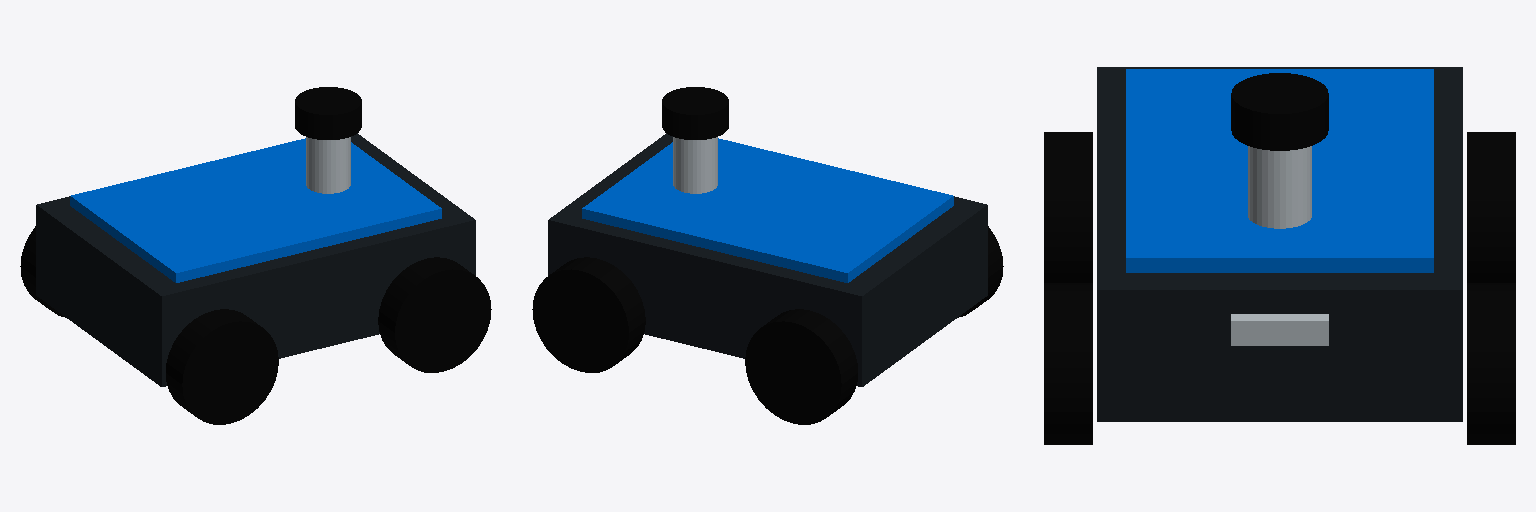
The robot description file, URDF, robot "argus_robot":
<?xml version="1.0"?>
<robot name="argus_robot">

  <!-- ================================================================= -->
  <!-- MATERIALS & PALETTE                                               -->
  <!-- ================================================================= -->
  <material name="metallic_dark_grey"><color rgba="0.12 0.14 0.16 1.0"/></material>
  <material name="metallic_silver"><color rgba="0.75 0.78 0.80 1.0"/></material>
  <material name="accent_blue"><color rgba="0.0 0.45 0.85 1.0"/></material>
  <material name="rubber_black"><color rgba="0.05 0.05 0.05 1.0"/></material>
  <material name="lens_glass"><color rgba="0.1 0.8 0.9 0.8"/></material>

  <!-- ================================================================= -->
  <!-- MAIN CHASSIS                                                      -->
  <!-- ================================================================= -->
  <link name="base_link">
    <visual>
      <origin xyz="0 0 0.08" rpy="0 0 0"/>
      <geometry>
        <box size="0.65 0.45 0.18"/>
      </geometry>
      <material name="metallic_dark_grey"/>
    </visual>
    <collision>
      <origin xyz="0 0 0.08" rpy="0 0 0"/>
      <geometry>
        <box size="0.65 0.45 0.18"/>
      </geometry>
    </collision>
    <inertial>
      <mass value="20.0"/>
      <inertia ixx="0.4" ixy="0.0" ixz="0.0" iyy="0.7" iyz="0.0" izz="0.9"/>
    </inertial>
  </link>
  <gazebo reference="base_link">
    <material>Gazebo/DarkGrey</material>
  </gazebo>

  <!-- Top Accent Cover plate -->
  <link name="top_plate">
    <visual>
      <geometry><box size="0.55 0.38 0.02"/></geometry>
      <material name="accent_blue"/>
    </visual>
  </link>
  <joint name="top_plate_joint" type="fixed">
    <parent link="base_link"/>
    <child link="top_plate"/>
    <origin xyz="0 0 0.18" rpy="0 0 0"/>
  </joint>

  <!-- ================================================================= -->
  <!-- 4 WHEELS (FRONT & REAR)                                           -->
  <!-- ================================================================= -->
  <!-- Front Left Wheel -->
  <link name="front_left_wheel">
    <visual>
      <geometry><cylinder radius="0.10" length="0.06"/></geometry>
      <material name="rubber_black"/>
    </visual>
    <collision><geometry><cylinder radius="0.10" length="0.06"/></geometry></collision>
    <inertial><mass value="2.0"/><inertia ixx="0.01" ixy="0" ixz="0" iyy="0.01" iyz="0" izz="0.01"/></inertial>
  </link>
  <joint name="front_left_wheel_joint" type="continuous">
    <parent link="base_link"/><child link="front_left_wheel"/>
    <origin xyz="0.22 0.26 0.02" rpy="-1.5708 0 0"/>
    <axis xyz="0 0 1"/>
  </joint>

  <!-- Front Right Wheel -->
  <link name="front_right_wheel">
    <visual>
      <geometry><cylinder radius="0.10" length="0.06"/></geometry>
      <material name="rubber_black"/>
    </visual>
    <collision><geometry><cylinder radius="0.10" length="0.06"/></geometry></collision>
    <inertial><mass value="2.0"/><inertia ixx="0.01" ixy="0" ixz="0" iyy="0.01" iyz="0" izz="0.01"/></inertial>
  </link>
  <joint name="front_right_wheel_joint" type="continuous">
    <parent link="base_link"/><child link="front_right_wheel"/>
    <origin xyz="0.22 -0.26 0.02" rpy="-1.5708 0 0"/>
    <axis xyz="0 0 1"/>
  </joint>

  <!-- Rear Left Wheel -->
  <link name="rear_left_wheel">
    <visual>
      <geometry><cylinder radius="0.10" length="0.06"/></geometry>
      <material name="rubber_black"/>
    </visual>
    <collision><geometry><cylinder radius="0.10" length="0.06"/></geometry></collision>
    <inertial><mass value="2.0"/><inertia ixx="0.01" ixy="0" ixz="0" iyy="0.01" iyz="0" izz="0.01"/></inertial>
  </link>
  <joint name="rear_left_wheel_joint" type="continuous">
    <parent link="base_link"/><child link="rear_left_wheel"/>
    <origin xyz="-0.22 0.26 0.02" rpy="-1.5708 0 0"/>
    <axis xyz="0 0 1"/>
  </joint>

  <!-- Rear Right Wheel -->
  <link name="rear_right_wheel">
    <visual>
      <geometry><cylinder radius="0.10" length="0.06"/></geometry>
      <material name="rubber_black"/>
    </visual>
    <collision><geometry><cylinder radius="0.10" length="0.06"/></geometry></collision>
    <inertial><mass value="2.0"/><inertia ixx="0.01" ixy="0" ixz="0" iyy="0.01" iyz="0" izz="0.01"/></inertial>
  </link>
  <joint name="rear_right_wheel_joint" type="continuous">
    <parent link="base_link"/><child link="rear_right_wheel"/>
    <origin xyz="-0.22 -0.26 0.02" rpy="-1.5708 0 0"/>
    <axis xyz="0 0 1"/>
  </joint>

  <!-- ================================================================= -->
  <!-- SENSORS: HEAD LIDAR & FRONT CAMERA                                -->
  <!-- ================================================================= -->
  <!-- Head Mount / Tower -->
  <link name="sensor_tower">
    <visual>
      <geometry><cylinder radius="0.04" length="0.12"/></geometry>
      <material name="metallic_silver"/>
    </visual>
  </link>
  <joint name="sensor_tower_joint" type="fixed">
    <parent link="base_link"/><child link="sensor_tower"/>
    <origin xyz="0.15 0 0.25" rpy="0 0 0"/>
  </joint>

  <!-- 360 Head LiDAR -->
  <link name="laser_frame">
    <visual>
      <geometry><cylinder radius="0.06" length="0.05"/></geometry>
      <material name="rubber_black"/>
    </visual>
  </link>
  <joint name="laser_joint" type="fixed">
    <parent link="sensor_tower"/><child link="laser_frame"/>
    <origin xyz="0 0 0.08" rpy="0 0 0"/>
  </joint>

  <!-- Front Camera -->
  <link name="camera_link">
    <visual>
      <geometry><box size="0.03 0.12 0.035"/></geometry>
      <material name="metallic_silver"/>
    </visual>
  </link>
  <joint name="camera_joint" type="fixed">
    <parent link="base_link"/><child link="camera_link"/>
    <origin xyz="0.33 0 0.12" rpy="0 0 0"/>
  </joint>

  <!-- ================================================================= -->
  <!-- GAZEBO DIFFERENTIAL DRIVE PLUGIN (THE ENGINE)                     -->
  <!-- ================================================================= -->
  <gazebo>
    <plugin name="diff_drive_controller" filename="libgazebo_ros_diff_drive.so">
      <update_rate>50.0</update_rate>
      
      <!-- Wheel Joints -->
      <left_joint>front_left_wheel_joint</left_joint>
      <right_joint>front_right_wheel_joint</right_joint>
      
      <!-- Kinematics -->
      <wheel_separation>0.52</wheel_separation>
      <wheel_diameter>0.20</wheel_diameter>
      
      <!-- Limits -->
      <max_wheel_torque>20.0</max_wheel_torque>
      <max_wheel_acceleration>1.0</max_wheel_acceleration>
      
      <!-- Output -->
      <command_topic>cmd_vel</command_topic>
      <odometry_topic>odom</odometry_topic>
      <odometry_frame>odom</odometry_frame>
      <robot_base_frame>base_link</robot_base_frame>
      
      <publish_odom>true</publish_odom>
      <publish_odom_tf>true</publish_odom_tf>
      <publish_wheel_tf>true</publish_wheel_tf>
    </plugin>
  </gazebo>

  <!-- ================================================================= -->
  <!-- GAZEBO LIDAR PLUGIN (THE EYES)                                    -->
  <!-- ================================================================= -->
  <gazebo reference="laser_frame">
    <sensor name="lidar" type="ray">
      <always_on>true</always_on>
      <!-- This turns on the visible blue rays in Gazebo! -->
      <visualize>true</visualize> 
      <update_rate>10</update_rate>
      <ray>
        <scan>
          <horizontal>
            <samples>360</samples>
            <resolution>1.0</resolution>
            <!-- Scans a full 360 degrees (0 to 2*Pi) -->
            <min_angle>0.0</min_angle>
            <max_angle>6.28319</max_angle>
          </horizontal>
        </scan>
        <range>
          <min>0.12</min>
          <!-- Set to 40.0 Meters as you requested -->
          <max>40.0</max>
          <resolution>0.015</resolution>
        </range>
        <noise>
          <type>gaussian</type>
          <mean>0.0</mean>
          <stddev>0.01</stddev>
        </noise>
      </ray>
      <plugin name="scan" filename="libgazebo_ros_ray_sensor.so">
        <ros>
          <remapping>~/out:=scan</remapping>
        </ros>
        <output_type>sensor_msgs/LaserScan</output_type>
        <frame_name>laser_frame</frame_name>
      </plugin>
    </sensor>
  </gazebo>
  <!-- =============== ================================================== -->
  <!-- GAZEBO IMU SENSOR (THE INNER EAR)                                 -->
  <!-- ================================================================= -->
  <gazebo reference="base_link">
    <sensor name="imu_sensor" type="imu">
      <always_on>true</always_on>
      <update_rate>100</update_rate>
      <plugin name="imu_plugin" filename="libgazebo_ros_imu_sensor.so">
        <ros>
          <remapping>~/out:=imu</remapping>
        </ros>
        <initial_orientation_as_reference>false</initial_orientation_as_reference>
      </plugin>
    </sensor>
  </gazebo>

<gazebo reference="camera_link">
    <sensor type="camera" name="argus_camera">
      <always_on>true</always_on>
      <update_rate>15.0</update_rate>
      <visualize>true</visualize>
      <camera name="front_camera">
        <horizontal_fov>1.3962634</horizontal_fov>
        <image>
          <width>640</width>
          <height>480</height>
          <format>R8G8B8</format>
        </image>
        <clip>
          <near>0.02</near>
          <far>300</far>
        </clip>
      </camera>
      <plugin name="camera_controller" filename="libgazebo_ros_camera.so">
        <ros>
          <remapping>~/image_raw:=/camera/image_raw</remapping>
          <remapping>~/camera_info:=/camera/camera_info</remapping>
        </ros>
        <frame_name>camera_link</frame_name>
      </plugin>
    </sensor>
  </gazebo>
</robot>

--- Facts derived from the render (not from the file) ---
Views: 3 orthographic renders of the robot side by side, from view 1: azimuth 30°, elevation 25°; view 2: azimuth 150°, elevation 25°; view 3: azimuth 270°, elevation 25°.
Robot: argus_robot — 9 links, 8 joints (4 continuous, 4 fixed); root link base_link; default pose: all joints at 0.
Visible links, largest first — view 1: base_link, top_plate, rear_right_wheel, front_right_wheel, laser_frame, sensor_tower, rear_left_wheel; view 2: base_link, top_plate, rear_left_wheel, front_left_wheel, laser_frame, sensor_tower, rear_right_wheel; view 3: base_link, top_plate, front_left_wheel, front_right_wheel, rear_left_wheel, rear_right_wheel, laser_frame, sensor_tower, camera_link.
Boxes of the visible links, box(x1,y1,x2,y2) form: base_link: box(36, 133, 475, 386); top_plate: box(70, 138, 441, 282); rear_right_wheel: box(166, 309, 278, 424); front_right_wheel: box(378, 257, 491, 372); laser_frame: box(295, 87, 361, 139); sensor_tower: box(306, 137, 350, 193); rear_left_wheel: box(20, 226, 65, 317); base_link: box(548, 133, 987, 386); top_plate: box(582, 138, 953, 282); rear_left_wheel: box(745, 309, 857, 424); front_left_wheel: box(532, 257, 645, 372); laser_frame: box(662, 87, 728, 139); sensor_tower: box(673, 137, 717, 193); rear_right_wheel: box(958, 226, 1003, 317); base_link: box(1097, 67, 1462, 421); top_plate: box(1126, 69, 1433, 272); front_left_wheel: box(1467, 283, 1515, 444); front_right_wheel: box(1044, 283, 1092, 444); rear_left_wheel: box(1467, 132, 1515, 282); rear_right_wheel: box(1044, 132, 1092, 282); laser_frame: box(1231, 73, 1328, 150); sensor_tower: box(1248, 146, 1311, 228); camera_link: box(1231, 314, 1328, 345).
Bounding box of the posed robot: 0.67 × 0.58 × 0.435 m (x, y, z).
Geometry: primitives only (box / cylinder / sphere), no mesh files.
